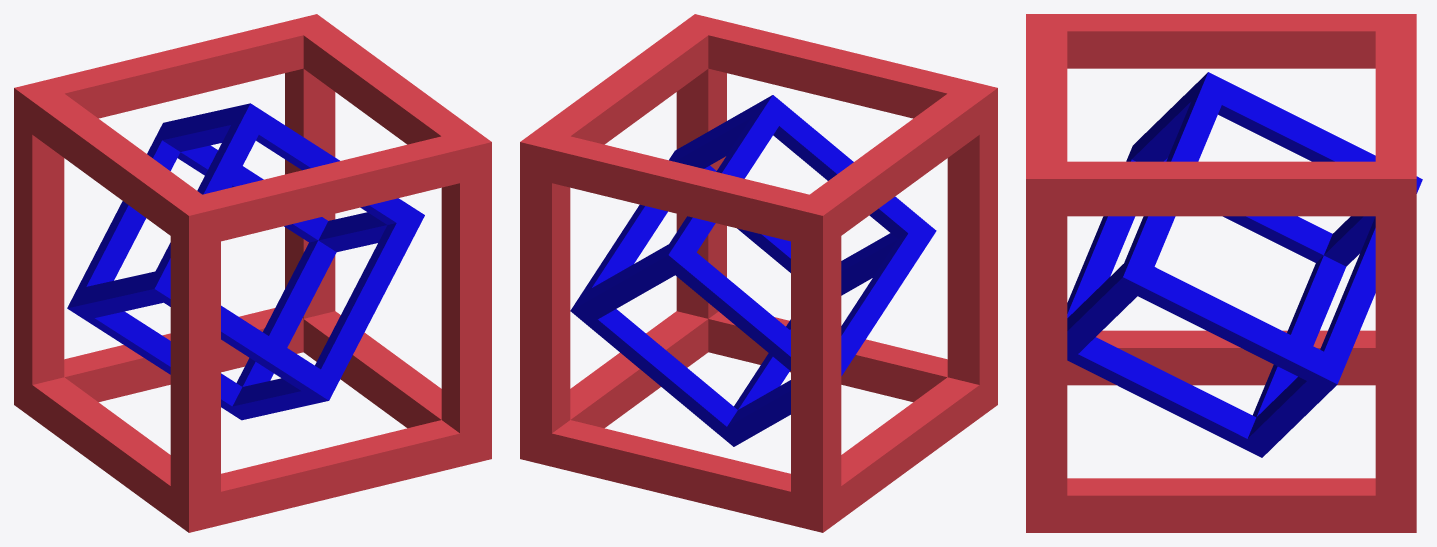
The model's file is ball.glb.
3 renders of one model, left to right at view 1: azimuth 30°, elevation 25°; view 2: azimuth 150°, elevation 25°; view 3: azimuth 270°, elevation 25°, orthographic. The views are drawn at different scales.
Parts seen in each view (by area): view 1: Cube, Cube.001; view 2: Cube, Cube.001; view 3: Cube, Cube.001.
Part boxes in pixels (left/top/right/bottom): Cube: left=14, top=14, right=491, bottom=532; Cube.001: left=67, top=103, right=424, bottom=420; Cube: left=520, top=14, right=997, bottom=532; Cube.001: left=570, top=95, right=936, bottom=446; Cube: left=1026, top=14, right=1416, bottom=532; Cube.001: left=1067, top=72, right=1422, bottom=457.
Size of the model in its own units: 19 by 20.28 by 19.31.
